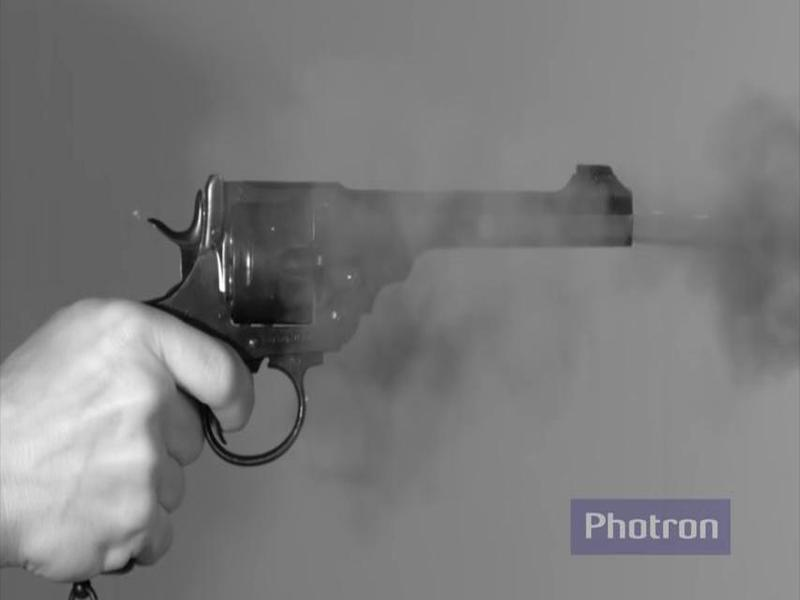Revolver: (114, 136, 667, 504)
